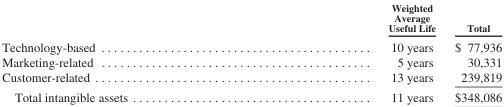table: (1, 1, 501, 104)
table column: (1, 1, 257, 104), (257, 1, 444, 104), (444, 1, 501, 104)
table column header: (1, 1, 501, 36)
table row: (1, 1, 501, 36), (1, 36, 501, 54), (1, 69, 501, 87), (1, 87, 501, 104), (1, 54, 501, 69)
